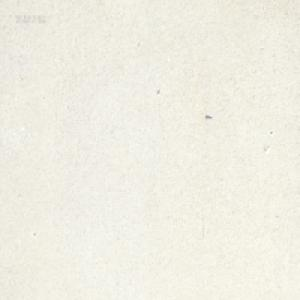Nail: (205, 114, 211, 119)
